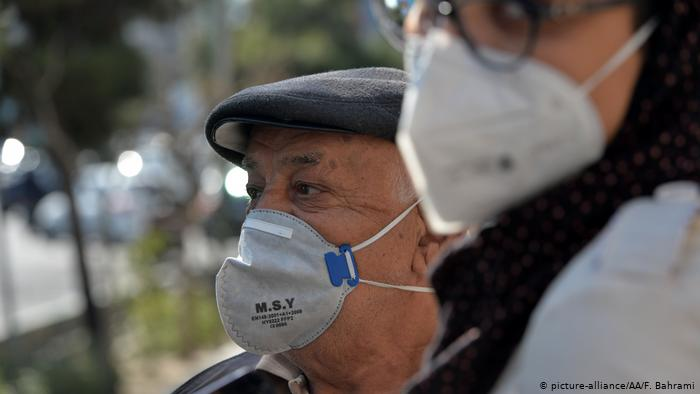n95: (378, 21, 614, 235), (211, 205, 368, 359)
